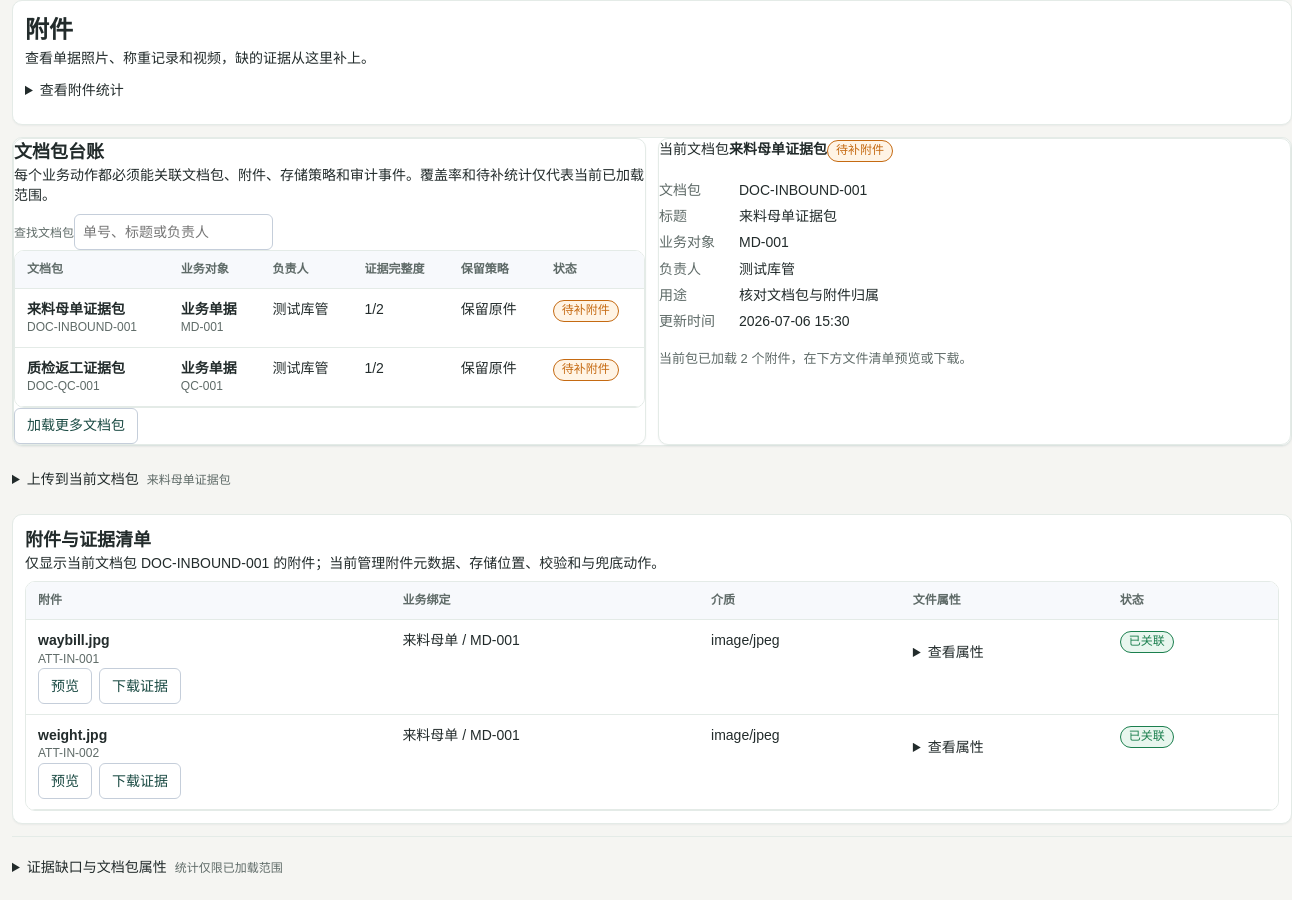
Test: DocumentManagementWorkspace › 加载更多文档包使用游标并去除跨页重复记录
Click the button "加载更多文档包" at {"x": 76, "y": 426}, box top-left (14, 408), bottom-right (138, 444)
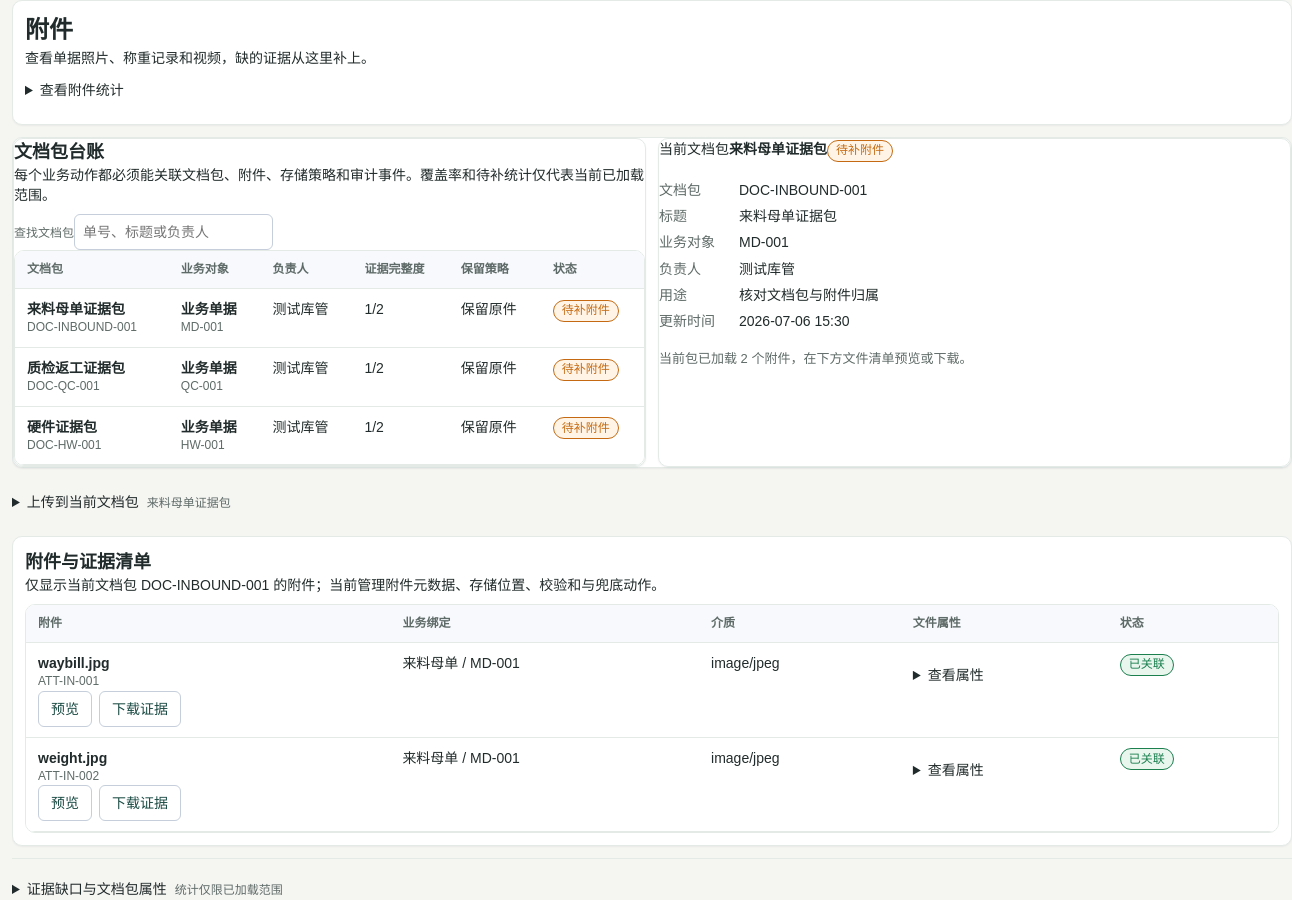
Expected: the element with class "document-master" shows "DOC-HW-001", top-left (27, 438), bottom-right (102, 452)
